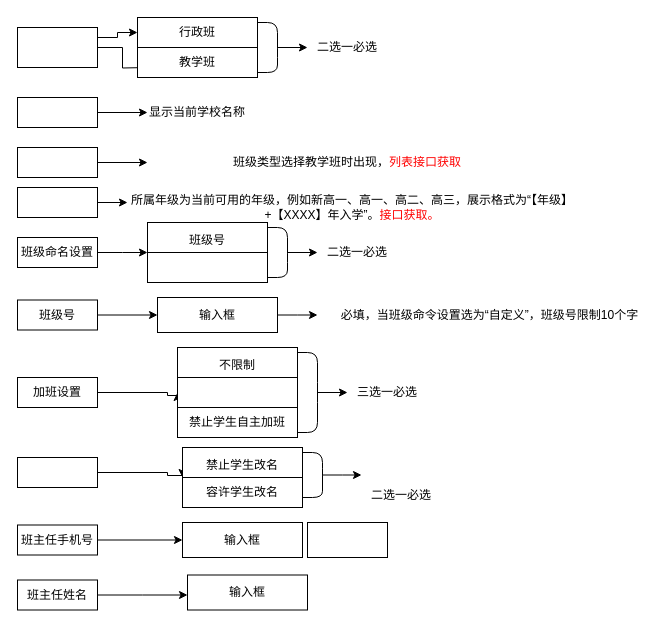
This 665x628 diagram has some shape labels left out. Here are the shapes that lost their labels. From the top down, the centre of each, then its label:
point 57,47: 班级类型
point 57,112: 学校名称
point 57,162: 所属学科
point 57,202: 所属年级
point 207,267: 自定义
point 237,392: 禁止注册用户加班
point 57,472: 学生改名设置
point 347,540: 验证信息
